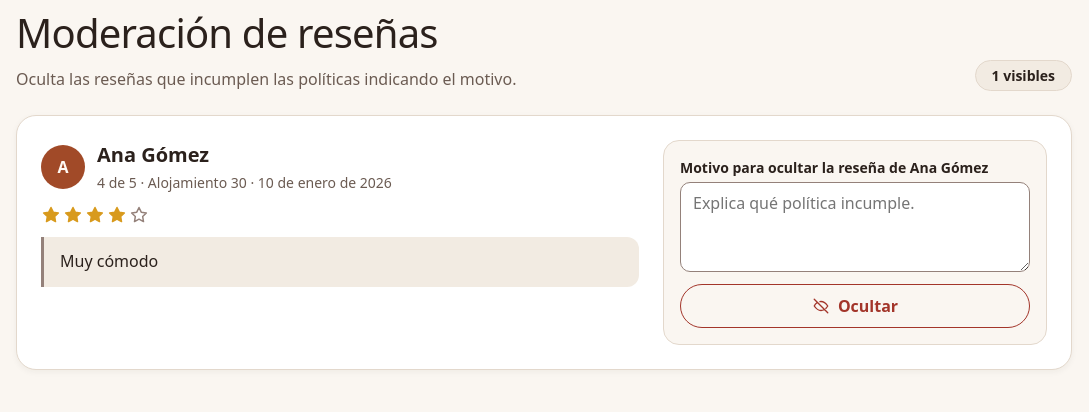
Test: ModeracionResenasPage › sin motivo no llama a la API y pide el motivo
Click the button with aria-label "Ocultar la reseña de Ana Gómez" at [855, 306], box [680,284,1030,328]
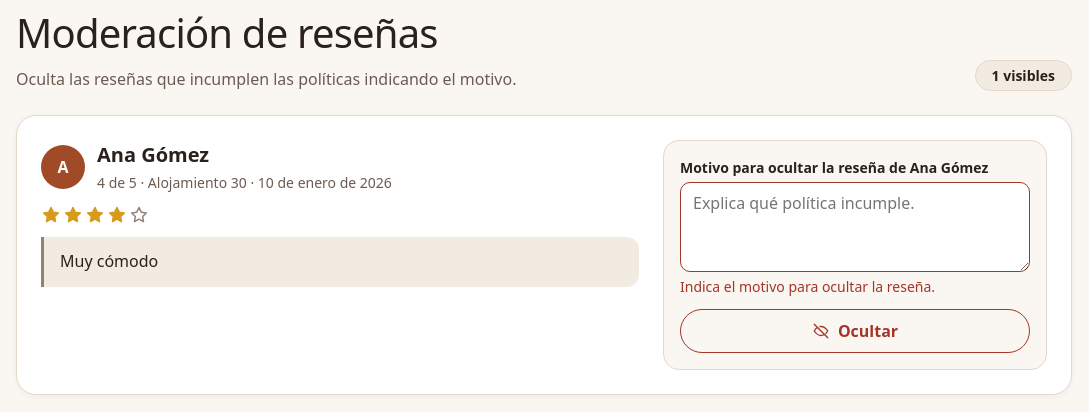
expect the text "Indica el motivo para ocultar la reseña." is shown: met, box [680,277,935,296]
